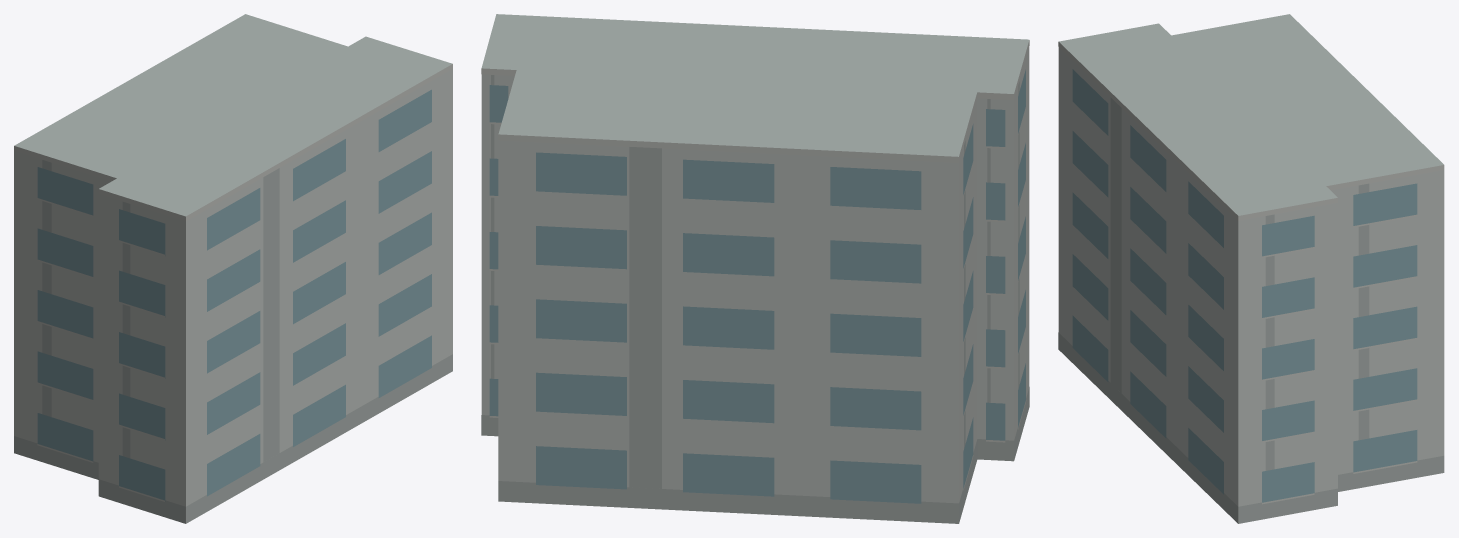
File: survey-upis-32683277.glb
3 views of the same model, side by side, from view 1: azimuth 30°, elevation 25°; view 2: azimuth 150°, elevation 25°; view 3: azimuth 270°, elevation 25° (orthographic). The views are drawn at different scales.
Parts seen in each view (by area): view 1: survey-upis-32683277.tmp; view 2: survey-upis-32683277.tmp; view 3: survey-upis-32683277.tmp.
Boxes of the visible parts, <box> form: survey-upis-32683277.tmp: <box>14,14,452,523</box>; survey-upis-32683277.tmp: <box>481,14,1029,523</box>; survey-upis-32683277.tmp: <box>1058,14,1444,523</box>.
Bounding box in the file's own units: 20.82 × 14.8 × 16.81.
